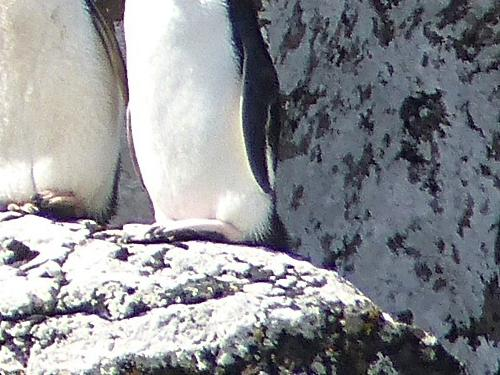Southern Rockhopper Penguin: (97, 0, 281, 283), (0, 0, 173, 227)
